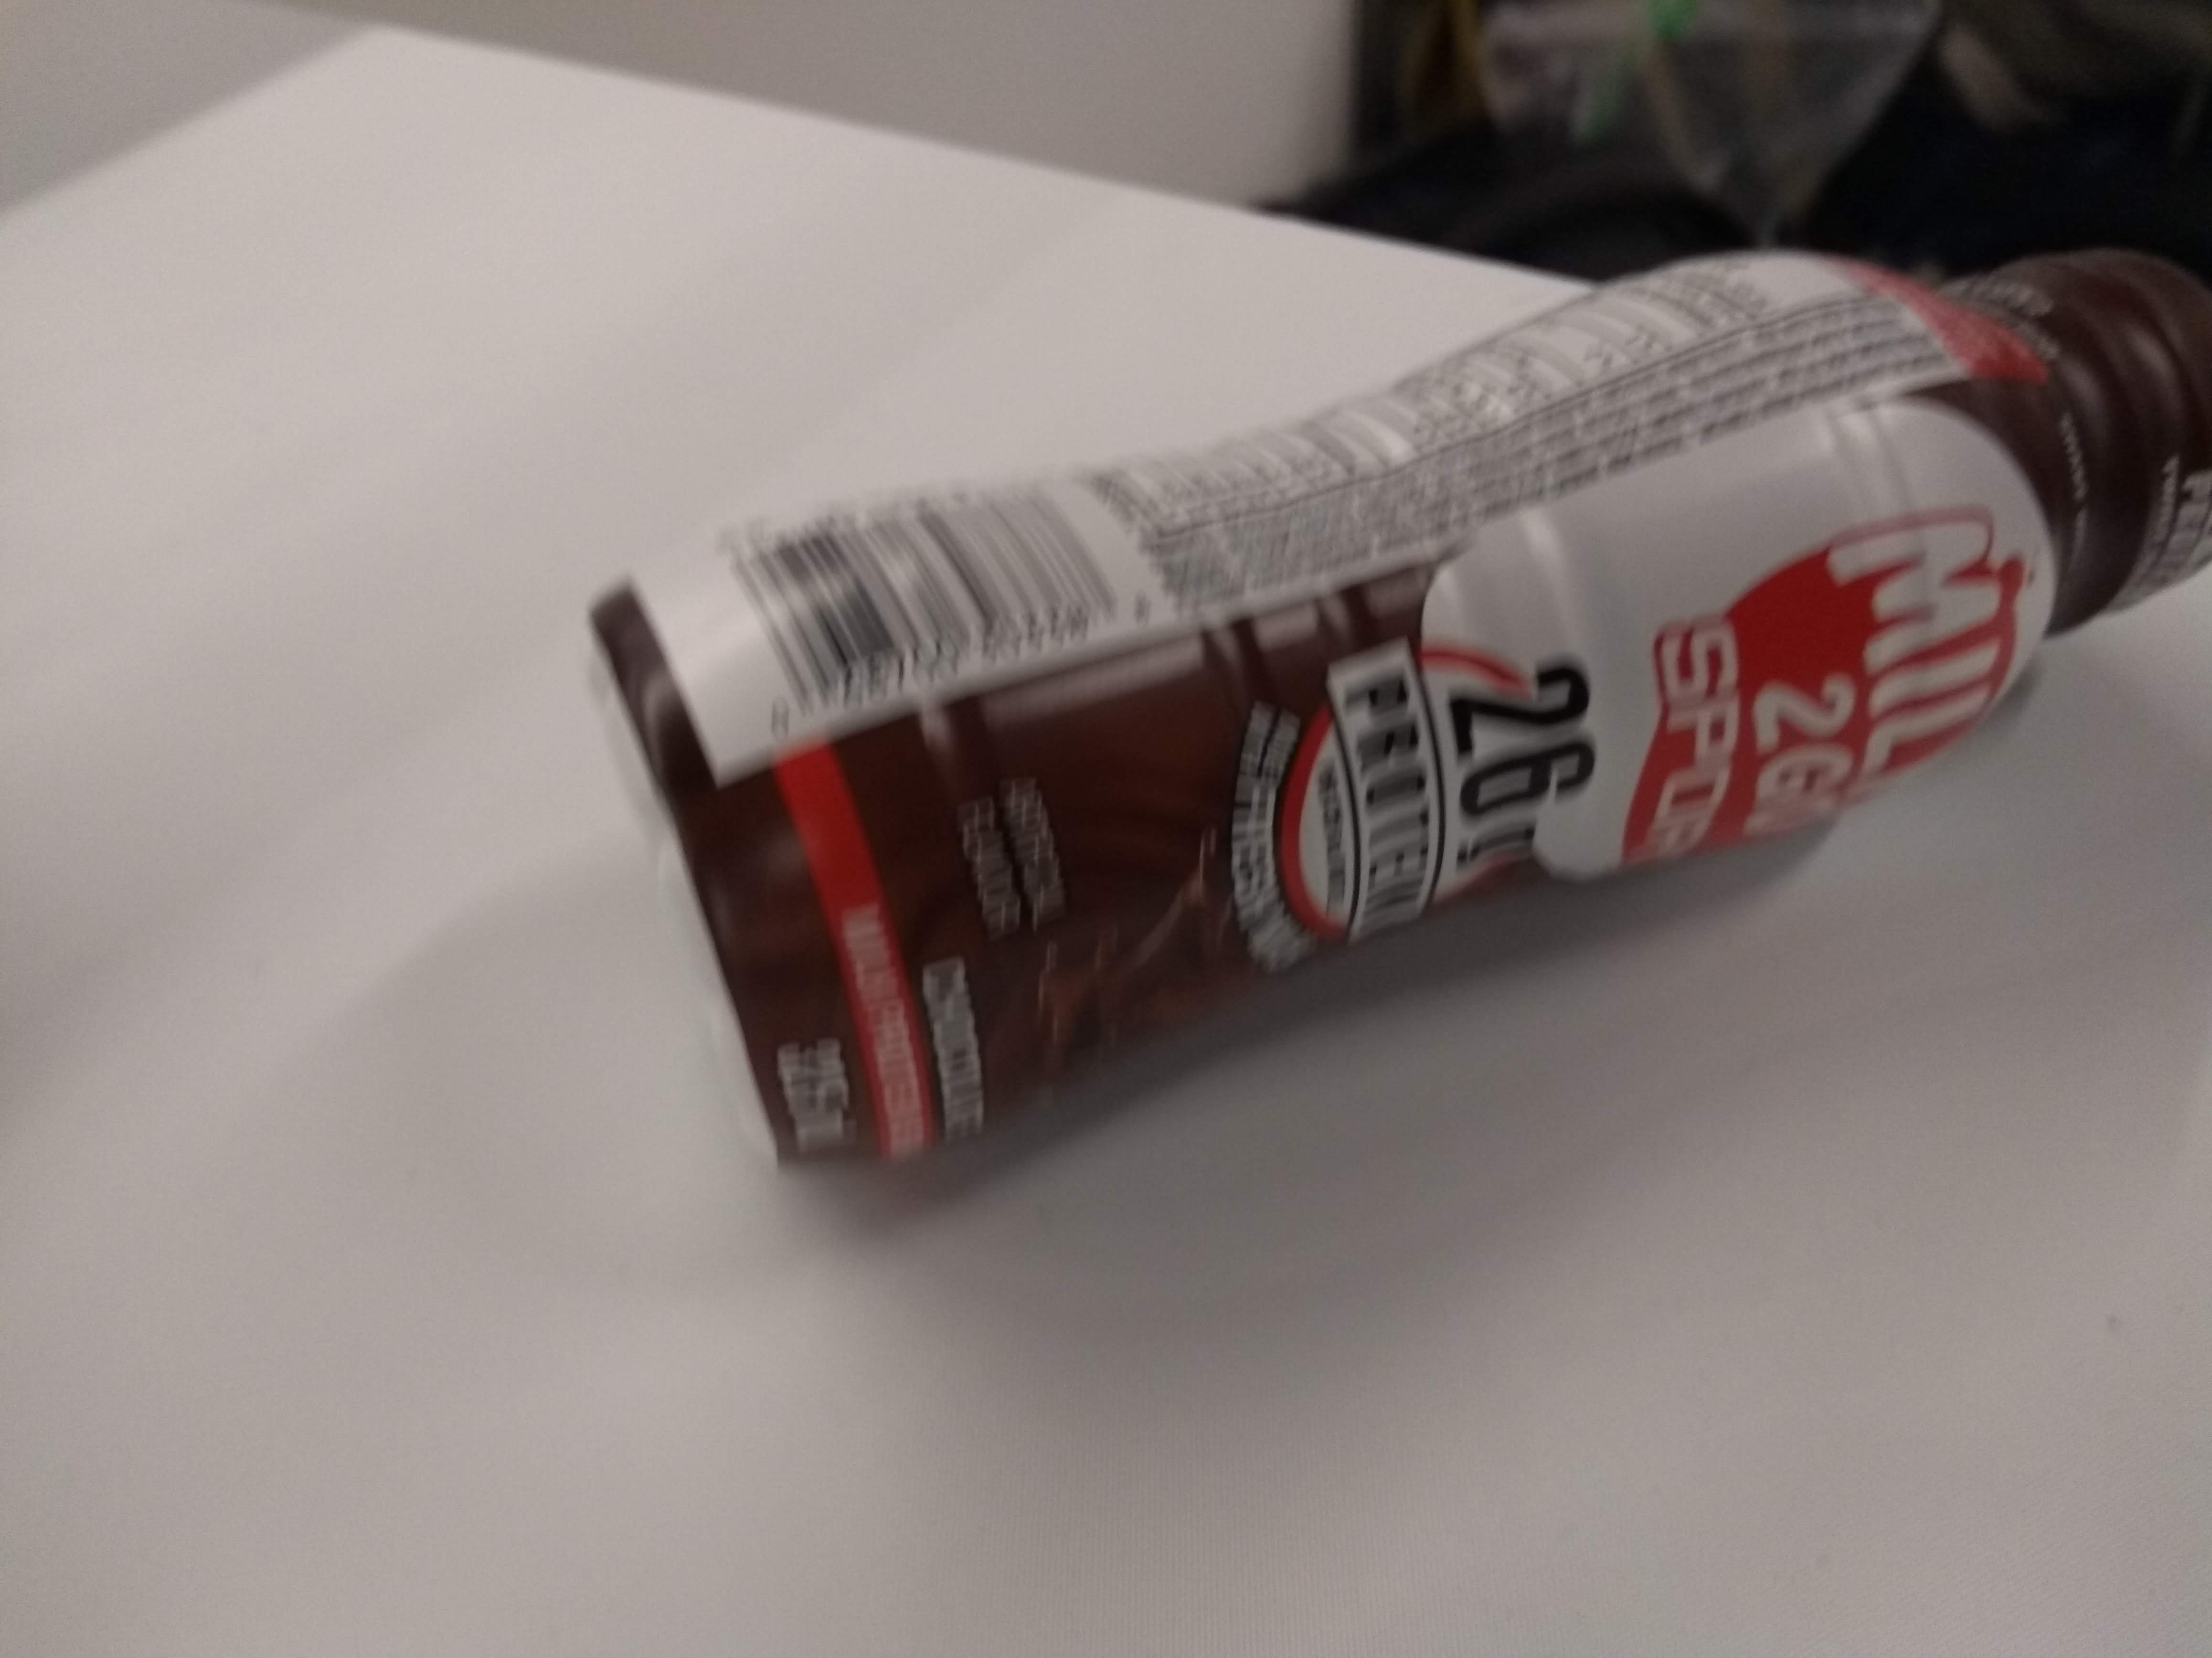chocolate_drink: (552, 235, 2212, 1203)
